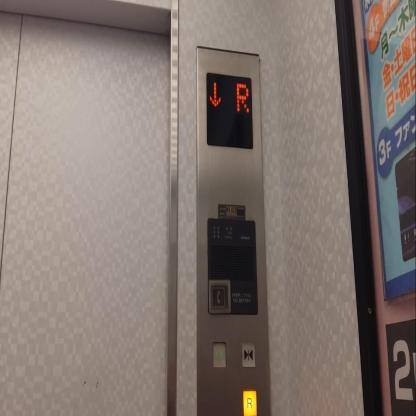R: (242, 389, 257, 415)
call: (209, 282, 226, 310)
close: (241, 340, 256, 369)
led: (206, 70, 254, 152)
open: (211, 340, 227, 371)
